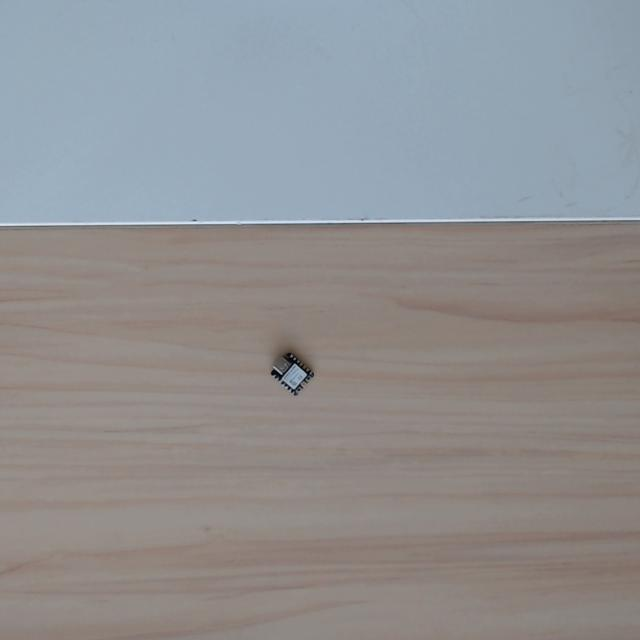ESP32C3-Xiao: (266, 348, 317, 398)
